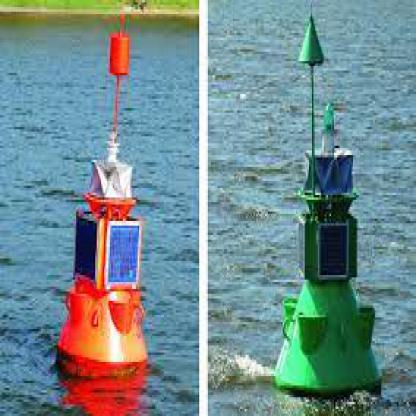buoy: (42, 5, 166, 383), (267, 5, 385, 400)
